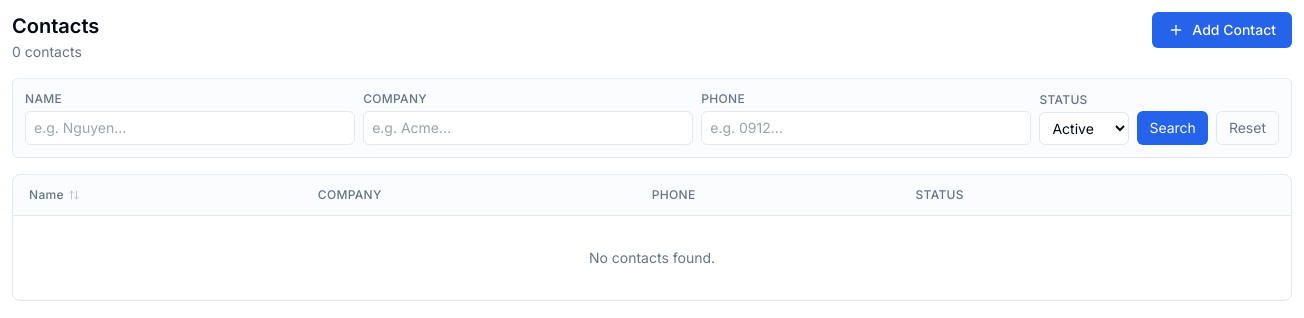
ContactsPage filter form › Reset button restores Status to "active" and clears text fields
Note: Type something
Type "Bob" into the field with placeholder "e.g. Nguyen…". click: x=190, y=128
box: x1=25 y1=111 x2=355 y2=145
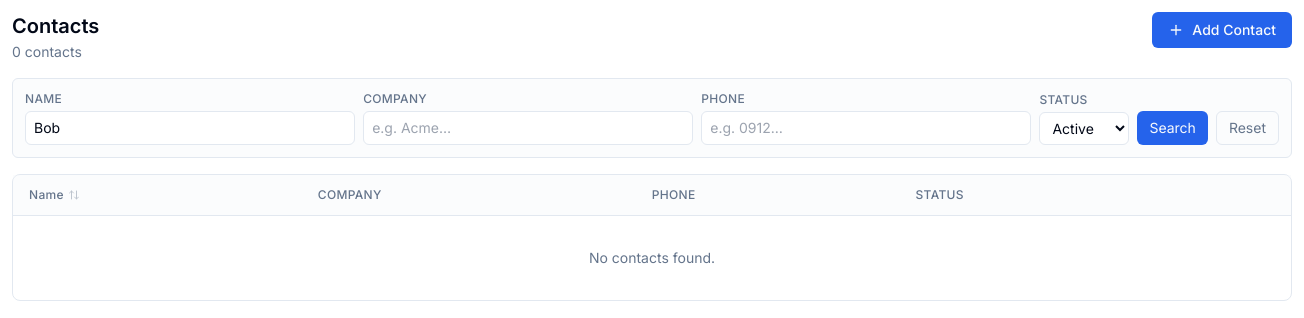
Submit the form, box x1=12 y1=78 x2=1292 y2=158
Click the button "Reset". click: x=1247, y=128
box: x1=1216 y1=111 x2=1279 y2=145
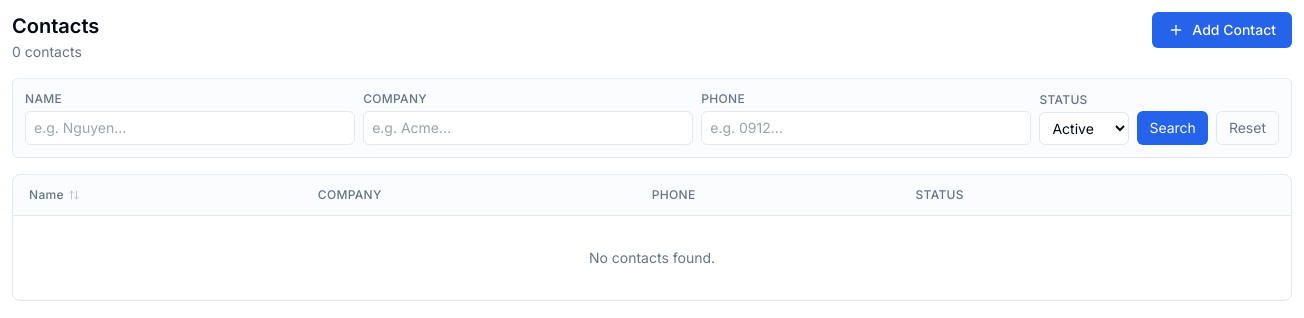
Expected: the dropdown shows "Active", x1=1039 y1=112 x2=1129 y2=145
Now the field with placeholder "e.g. Nguyen…" is empty, box x1=25 y1=111 x2=355 y2=145
